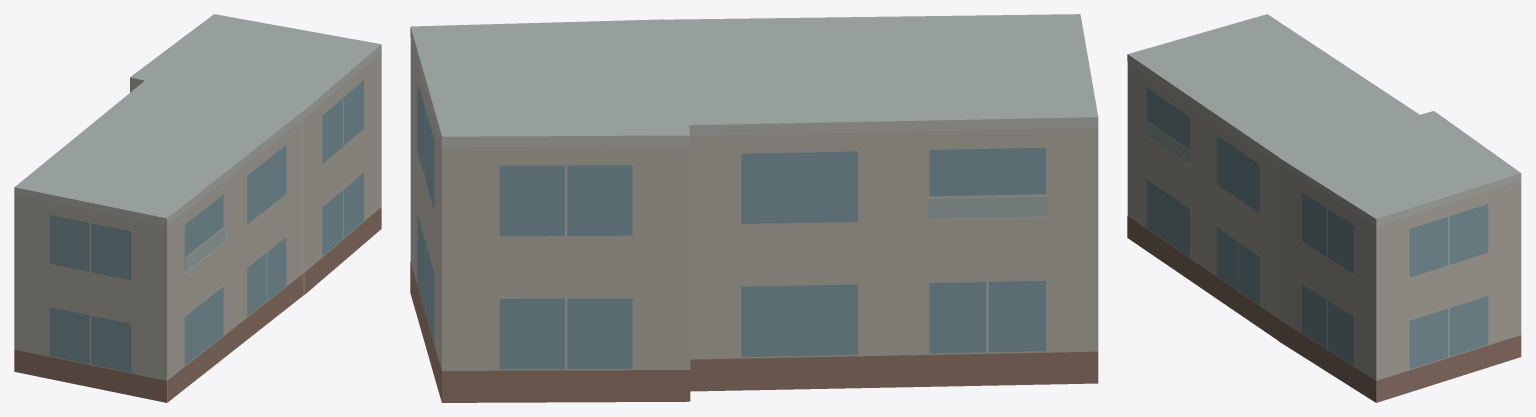
Rendered from survey-upis-32495800.glb.
The picture shows the model from 3 angles, left to right: view 1: azimuth 30°, elevation 25°; view 2: azimuth 150°, elevation 25°; view 3: azimuth 270°, elevation 25°; orthographic projection. The views are drawn at different scales.
Parts seen in each view (by area): view 1: survey-upis-32495800.tmp; view 2: survey-upis-32495800.tmp; view 3: survey-upis-32495800.tmp.
Boxes of the visible parts, x1=… form: survey-upis-32495800.tmp: x1=14, y1=14, x2=381, y2=402; survey-upis-32495800.tmp: x1=410, y1=14, x2=1098, y2=402; survey-upis-32495800.tmp: x1=1127, y1=14, x2=1521, y2=402.
Bounding box in the file's own units: 14.61 × 6.1 × 11.86.
